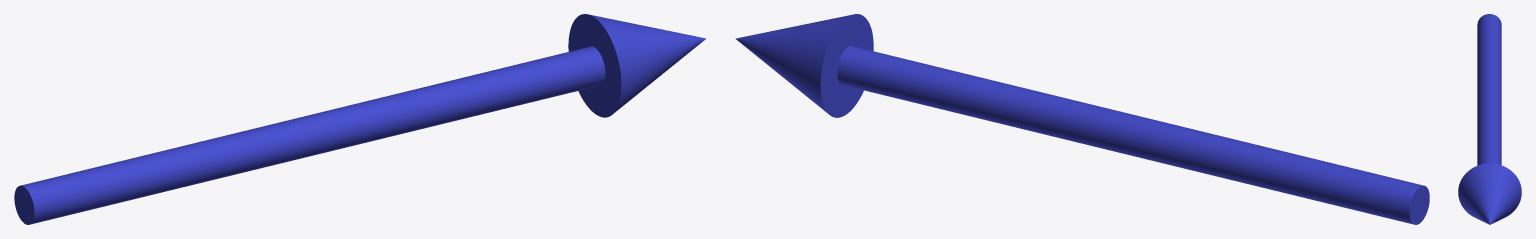
File: axis arrow.fbx
The picture shows the model from 3 angles, left to right: view 1: azimuth 30°, elevation 25°; view 2: azimuth 150°, elevation 25°; view 3: azimuth 270°, elevation 25°; orthographic projection. The views are drawn at different scales.
Parts seen in each view (by area): view 1: node_id41, node_id39; view 2: node_id41, node_id39; view 3: node_id41, node_id39.
Part boxes in pixels (x1=…): node_id41: x1=14, y1=46, x2=605, y2=224; node_id39: x1=568, y1=14, x2=706, y2=117; node_id41: x1=837, y1=46, x2=1429, y2=224; node_id39: x1=735, y1=14, x2=873, y2=117; node_id41: x1=1477, y1=14, x2=1501, y2=165; node_id39: x1=1458, y1=163, x2=1521, y2=224.
Bounding box in the file's own units: 0.512 × 0.0689 × 0.0689.
